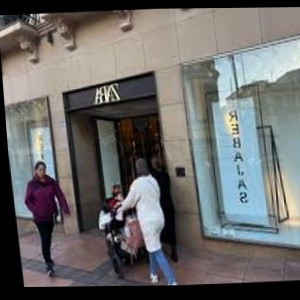zara: (83, 44, 172, 116)
